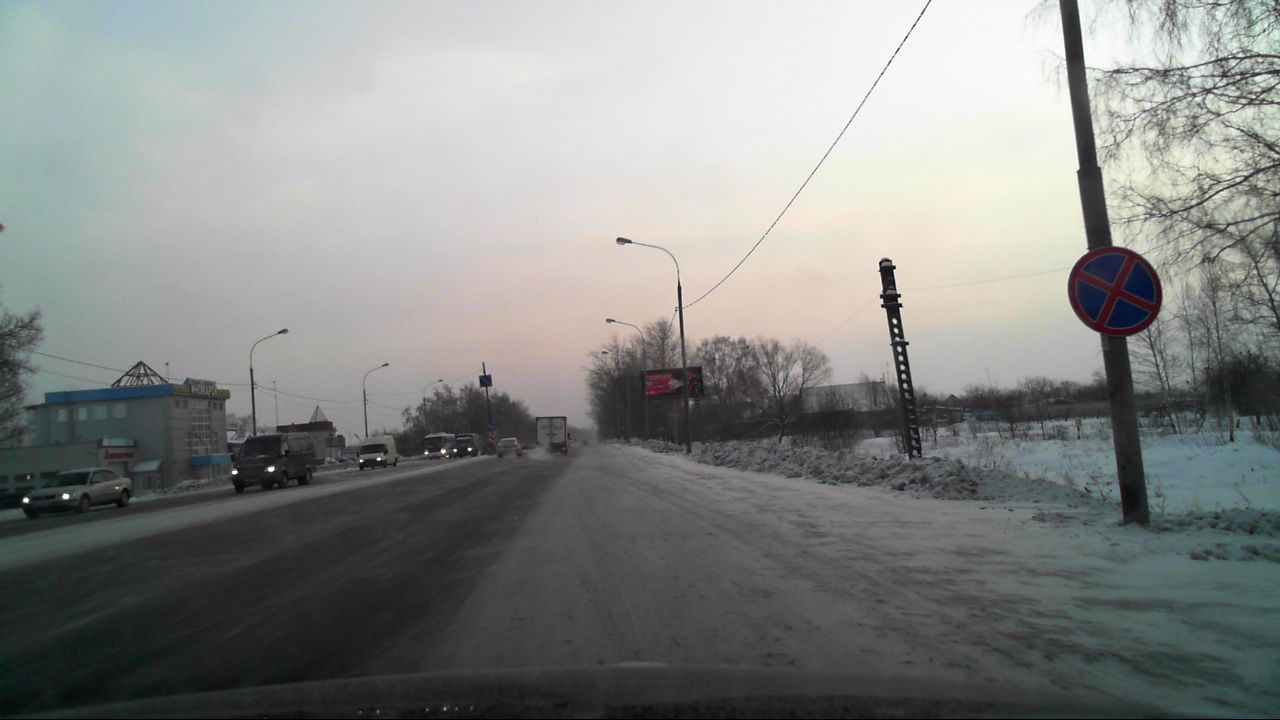No Parking: (1066, 244, 1162, 338)
